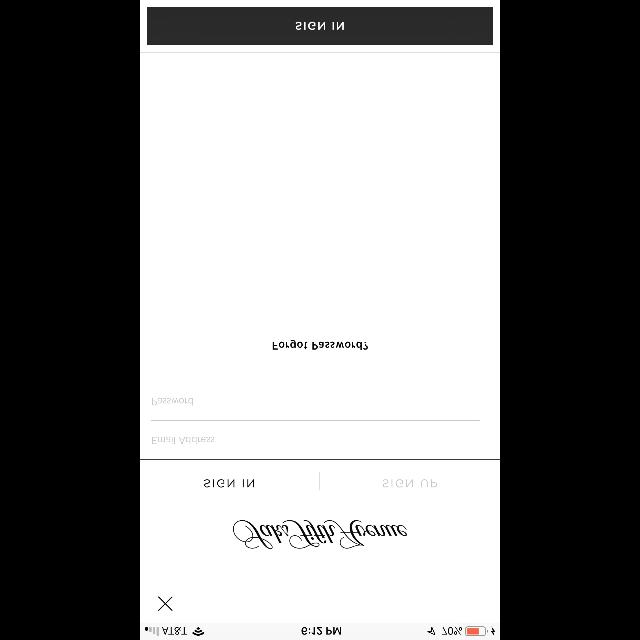icon: (158, 596, 174, 610)
input: (152, 381, 480, 405), (152, 420, 480, 444)
text: (233, 520, 407, 548), (272, 340, 368, 350), (382, 478, 438, 488), (203, 478, 254, 488), (152, 437, 214, 445), (152, 398, 194, 404)
textbutton: (147, 7, 493, 45)
uppertaskbar: (140, 622, 500, 640)
